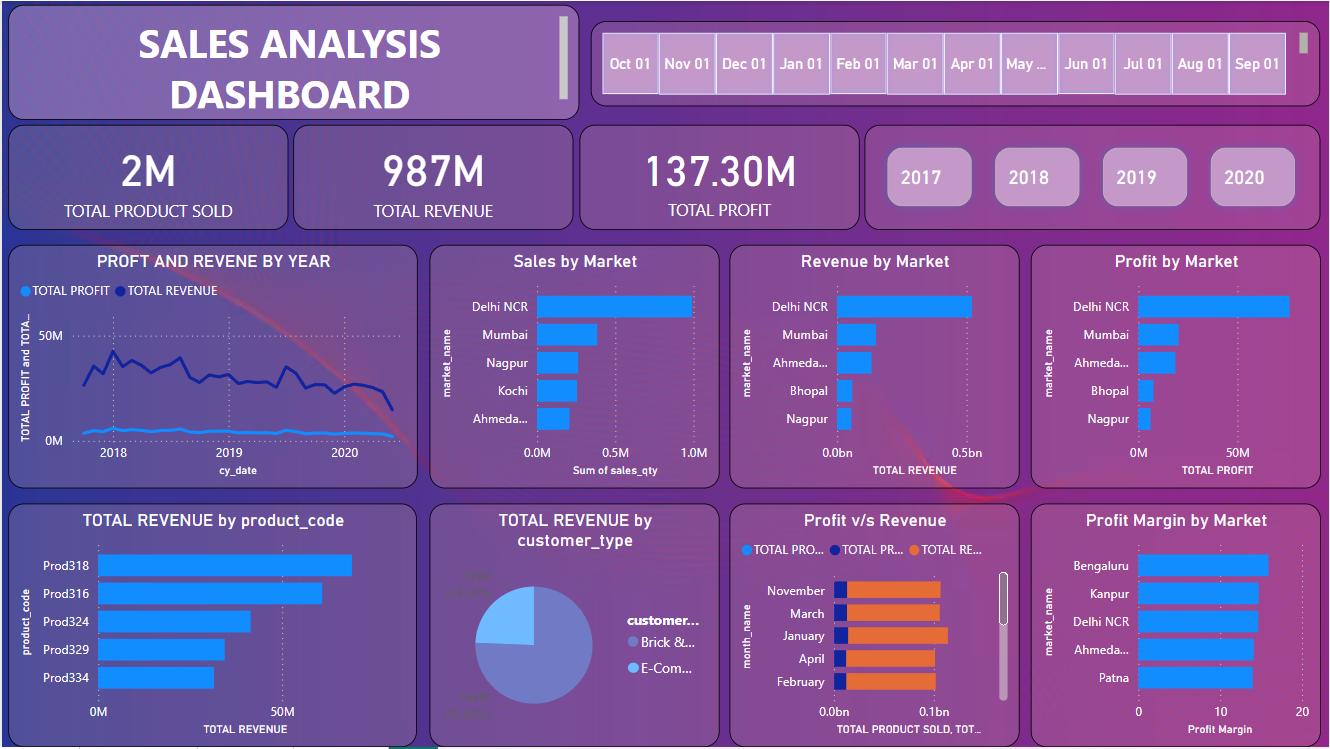

The dashboard page shown, as its layout file describes it:
{"tool":"powerbi","page":{"name":"Dashboard","canvas":[1280,720],"ordinal":0},"visuals":[{"type":"textbox","box":[6.2,3.8,551.2,111.2],"z":0},{"type":"card","fields":{"Values":["transactions_all.TOTAL PRODUCT SOLD"]},"box":[6.2,120,270,101.2],"z":1000},{"type":"card","fields":{"Values":["transactions_all.TOTAL REVENUE"]},"box":[281.2,120,270,101.2],"z":2000},{"type":"card","fields":{"Values":["transactions_all.TOTAL PROFIT"]},"box":[557.5,120,270,101.2],"z":3000},{"type":"lineChart","title":"PROFT AND REVENE BY YEAR","fields":{"Category":["transactions_all.cy_date.Variation.Date Hierarchy.Year"],"Y":["transactions_all.TOTAL PROFIT","transactions_all.TOTAL REVENUE"]},"box":[6.2,235,395,235],"z":4000},{"type":"barChart","title":"Sales by Market","fields":{"Category":["transactions_all.market_name"],"Y":["Sum(transactions_all.sales_qty)"]},"box":[412.5,235,280,235],"z":5000},{"type":"barChart","title":"Revenue by Market","fields":{"Category":["transactions_all.market_name"],"Y":["transactions_all.TOTAL REVENUE"]},"box":[702.5,235,280,235],"z":6000},{"type":"barChart","fields":{"Category":["transactions_all.product_code"],"Y":["transactions_all.TOTAL REVENUE"]},"box":[6,485,394.5,235.3],"z":7000},{"type":"pieChart","fields":{"Category":["transactions_all.customer_type"],"Y":["transactions_all.TOTAL REVENUE"]},"box":[412.6,485,279.9,235.3],"z":8000},{"type":"barChart","title":"Profit v/s Revenue","fields":{"Category":["transactions_all.month_name"],"Y":["transactions_all.TOTAL PRODUCT SOLD","transactions_all.TOTAL PROFIT","transactions_all.TOTAL REVENUE"]},"box":[702.1,485,279.9,235.3],"z":9000},{"type":"advancedSlicerVisual","fields":{"Values":["transactions_all.year"]},"box":[832.5,120,440,101.2],"z":10000},{"type":"barChart","title":"Profit by Market","fields":{"Category":["transactions_all.market_name"],"Y":["transactions_all.TOTAL PROFIT"]},"box":[992.5,235,280,235],"z":11000},{"type":"advancedSlicerVisual","fields":{"Values":["transactions_all.cy_date"]},"box":[568.8,18.8,703.8,82.5],"z":12000},{"type":"barChart","title":"Profit Margin by Market","fields":{"Y":["transactions_all.Profit Margin"],"Category":["transactions_all.market_name"]},"box":[993,485,280,235],"z":13000}]}

Visuals, with their boxes in screenshot pixels (x1, y1, x2, y2), scaled from the page's 1280x720 canvas onto the 1330x749 screenshot:
textbox: (left=6, top=4, right=579, bottom=120)
card - transactions_all.TOTAL PRODUCT SOLD: (left=6, top=125, right=287, bottom=230)
card - transactions_all.TOTAL REVENUE: (left=292, top=125, right=573, bottom=230)
card - transactions_all.TOTAL PROFIT: (left=579, top=125, right=860, bottom=230)
"PROFT AND REVENE BY YEAR" lineChart: (left=6, top=244, right=417, bottom=489)
"Sales by Market" barChart: (left=429, top=244, right=720, bottom=489)
"Revenue by Market" barChart: (left=730, top=244, right=1021, bottom=489)
barChart - transactions_all.product_code x transactions_all.TOTAL REVENUE: (left=6, top=505, right=416, bottom=748)
pieChart - transactions_all.customer_type x transactions_all.TOTAL REVENUE: (left=429, top=505, right=720, bottom=748)
"Profit v/s Revenue" barChart: (left=730, top=505, right=1020, bottom=748)
advancedSlicerVisual - transactions_all.year: (left=865, top=125, right=1322, bottom=230)
"Profit by Market" barChart: (left=1031, top=244, right=1322, bottom=489)
advancedSlicerVisual - transactions_all.cy_date: (left=591, top=20, right=1322, bottom=105)
"Profit Margin by Market" barChart: (left=1032, top=505, right=1323, bottom=748)
